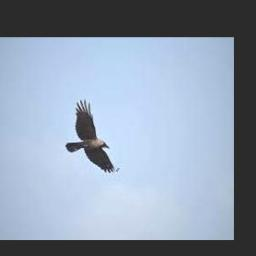Crow: (65, 99, 114, 173)
